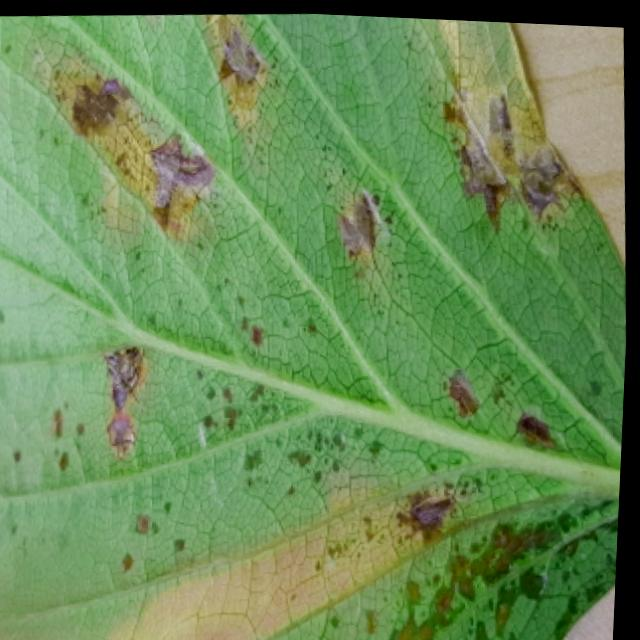Angular Leafspot: (0, 11, 627, 640)
